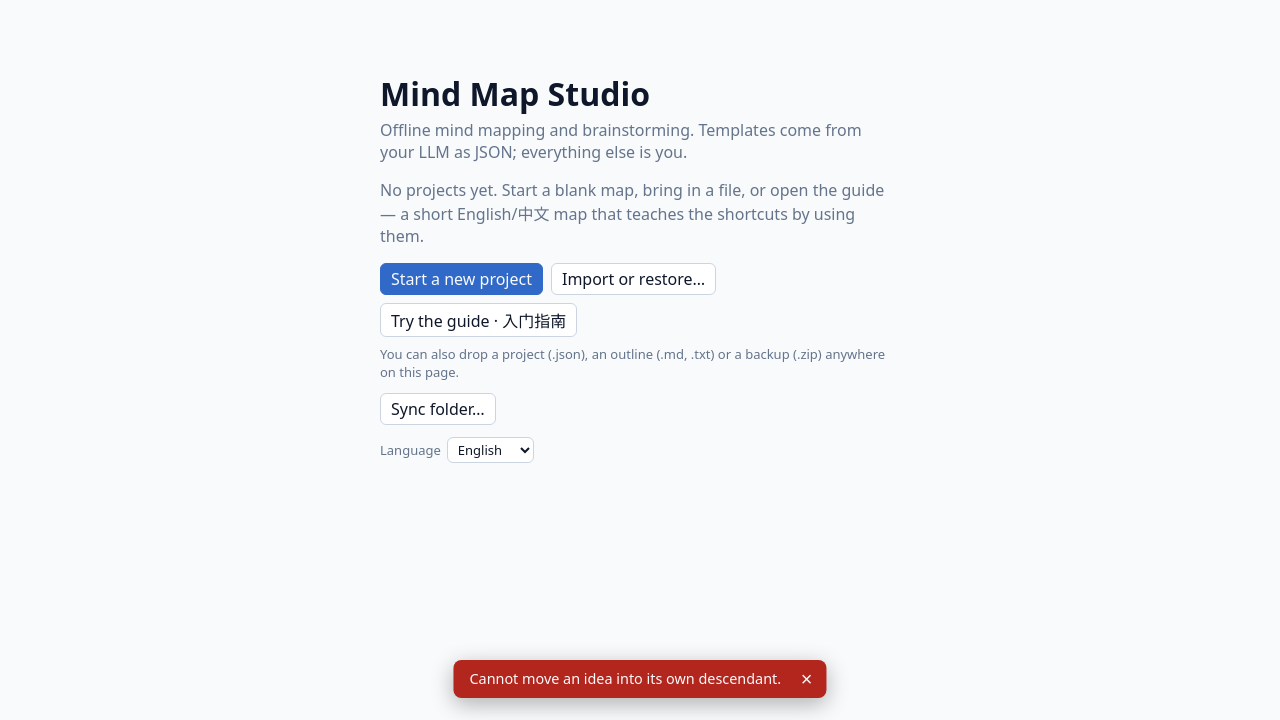
Test: section switching › both sections live behind the tabs and share one project
Click the button "Start a new project" at (462, 279), box [380,263,543,295]
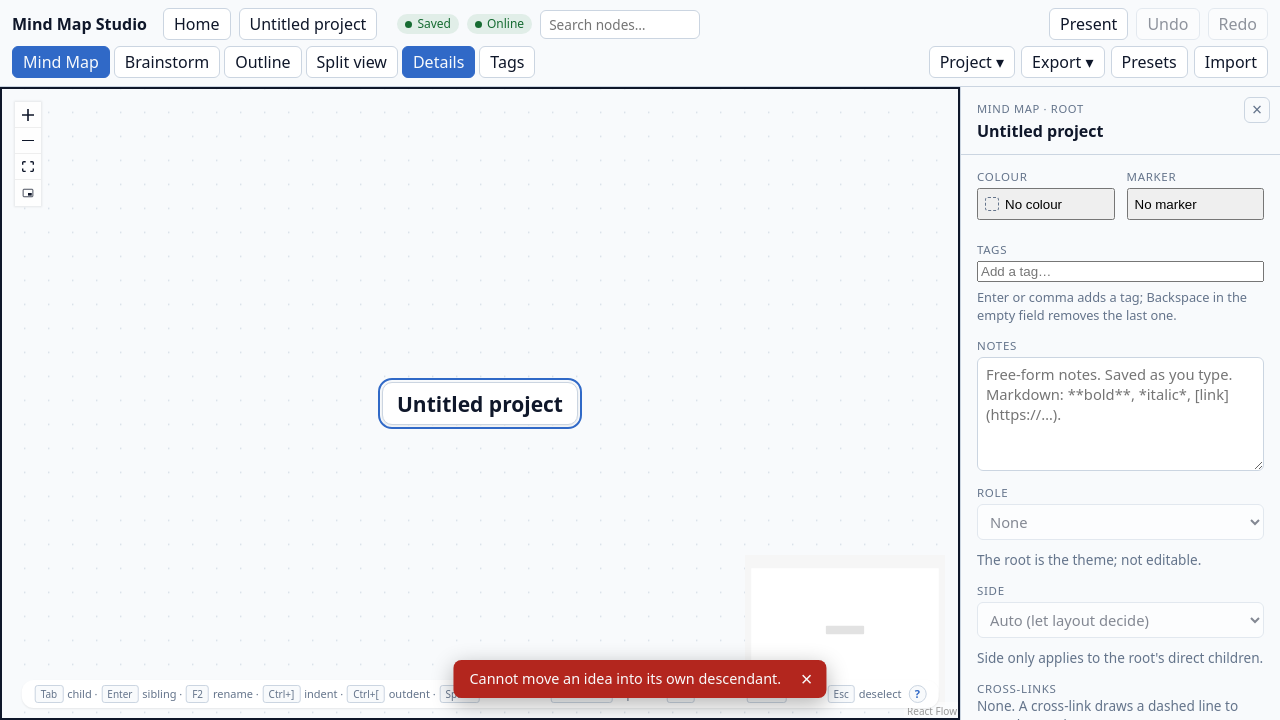
Expected: the element with test id "map-canvas" is shown
Click the tab "Brainstorm" at (167, 62), box [114,46,220,78]
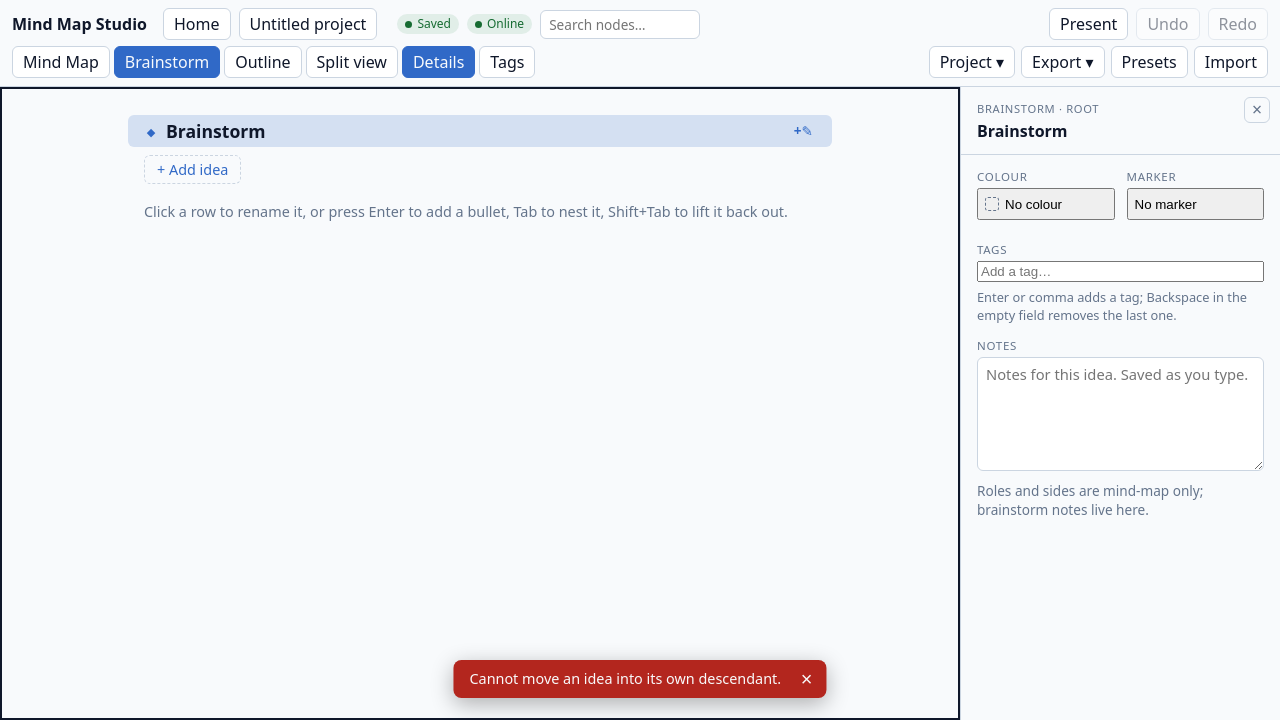
Expected: the element with test id "brainstorm-outliner" is shown
Expected: the element with test id "map-canvas" is gone
Click the tab "Outline" at (263, 62), box [224,46,302,78]
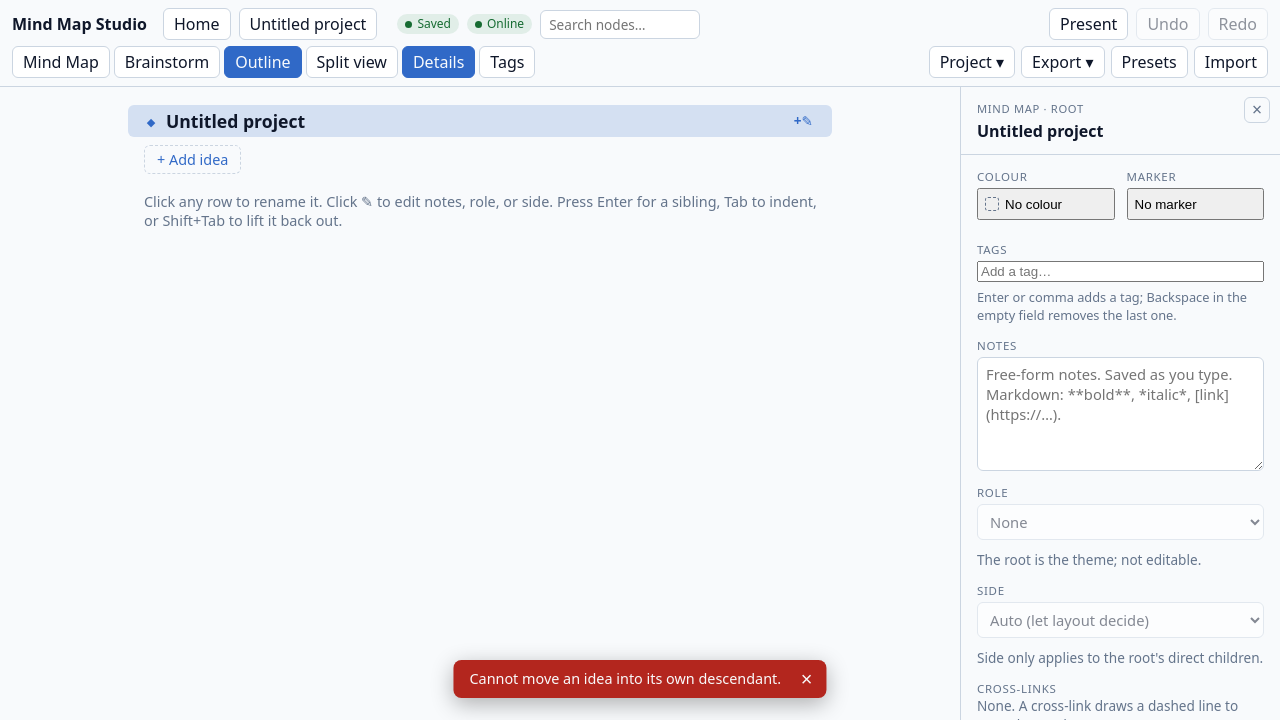
Expected: the element with test id "outline-view" is shown
Expected: the element with test id "brainstorm-outliner" is gone
Expected: the list item with test id "outline-row-" is shown, [128,105,832,137]
Click the tab "Mind Map" at (61, 62), box [12,46,110,78]
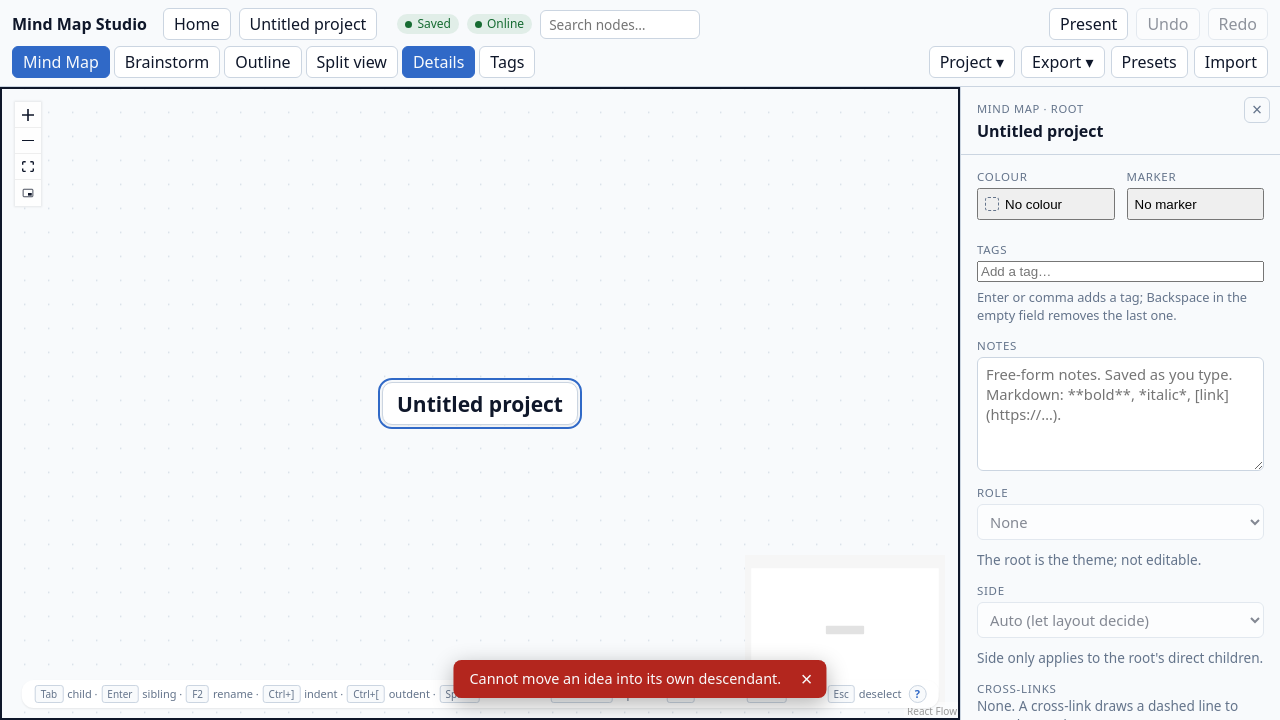
Expected: the element with test id "map-canvas" is shown
